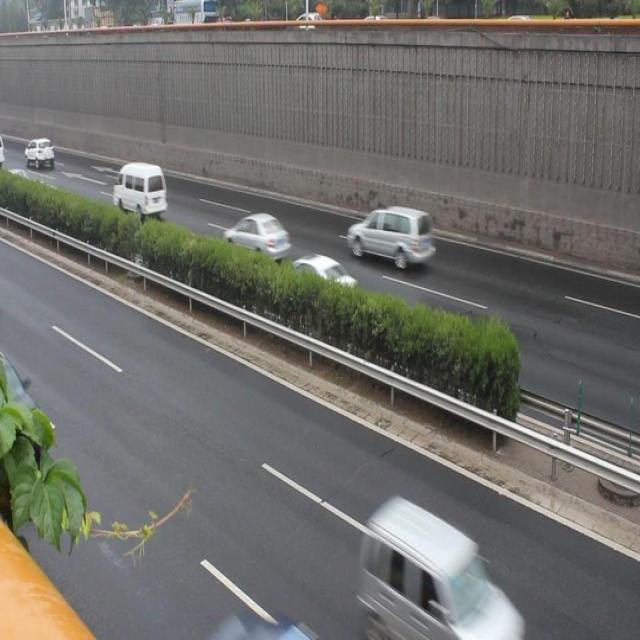car: (358, 484, 518, 640), (280, 241, 357, 304), (220, 208, 290, 272)
truck: (349, 198, 435, 274), (112, 156, 169, 222)
